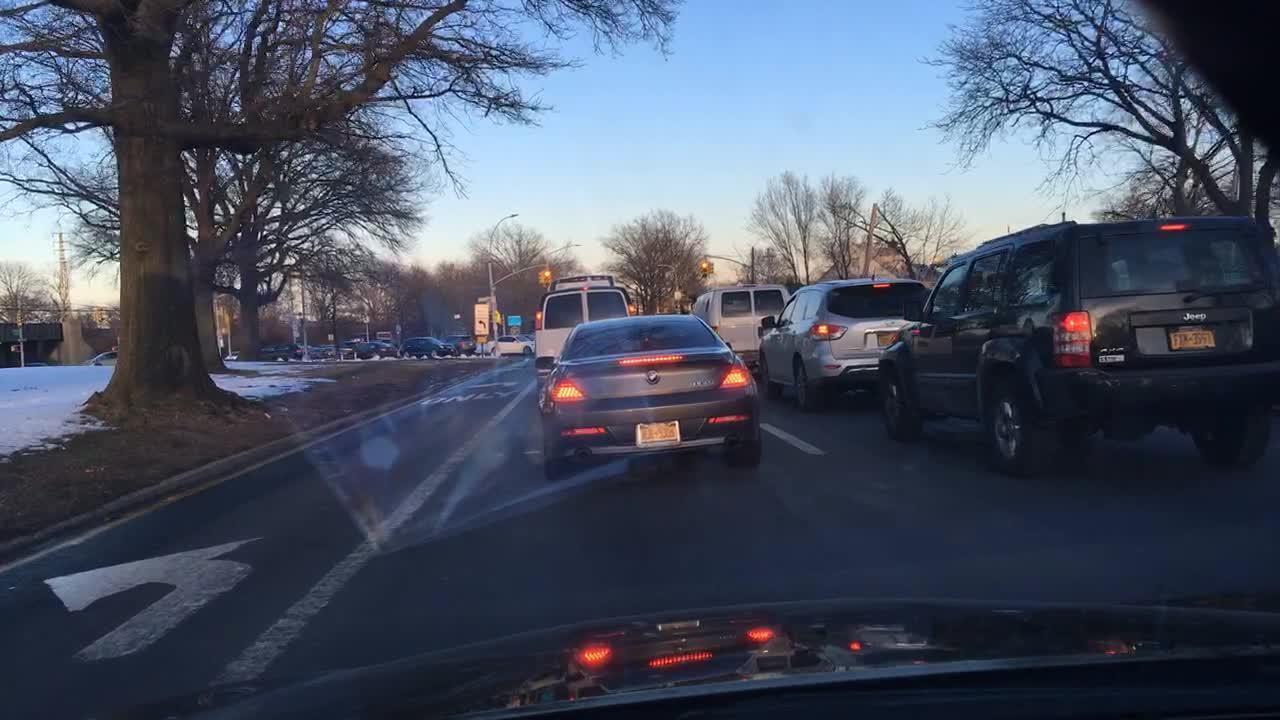Volkswagen: (639, 364, 668, 392)
jeep: (1177, 307, 1215, 326)
